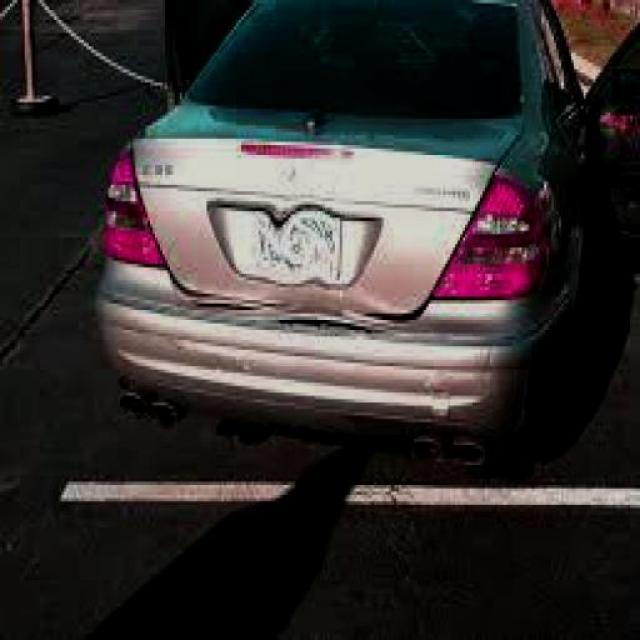Car-Damage: (256, 195, 378, 351), (424, 364, 458, 415)
